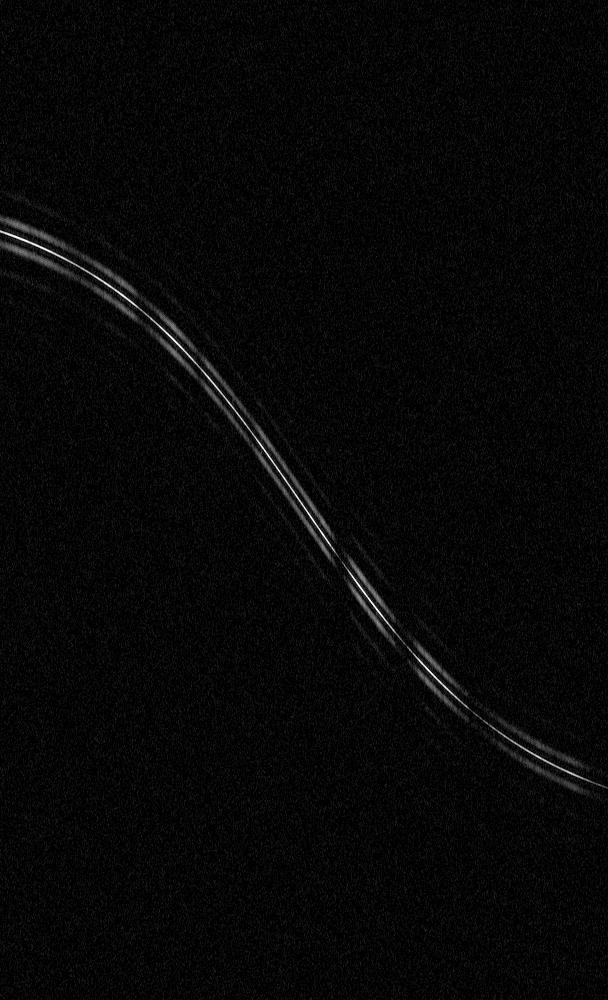signal: (0, 0, 607, 999)
